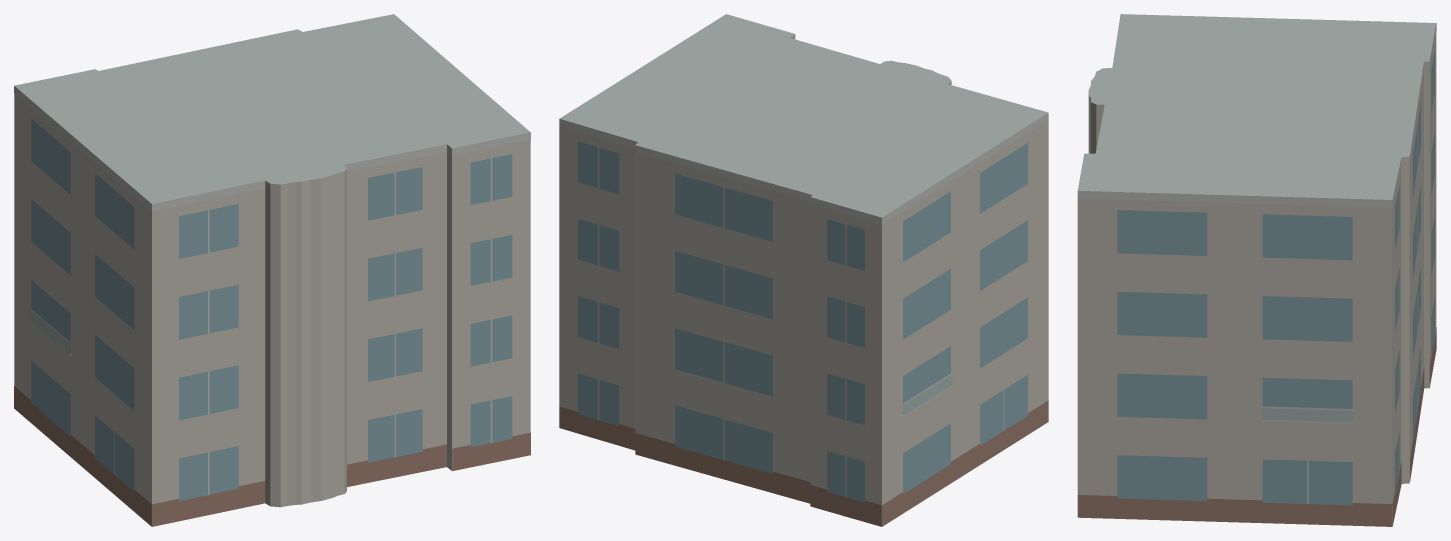
Rendered from survey-upis-32769413.glb.
The picture shows the model from 3 angles, left to right: view 1: azimuth 30°, elevation 25°; view 2: azimuth 150°, elevation 25°; view 3: azimuth 270°, elevation 25°; orthographic projection. The views are drawn at different scales.
Parts seen in each view (by area): view 1: survey-upis-32769413.tmp; view 2: survey-upis-32769413.tmp; view 3: survey-upis-32769413.tmp.
Boxes of the visible parts, x1,y1,x2,y2 form: survey-upis-32769413.tmp: (14,14,530,526); survey-upis-32769413.tmp: (559,14,1048,526); survey-upis-32769413.tmp: (1077,14,1436,526).
Size of the model in its own units: 12.82 by 10.5 by 10.45.
